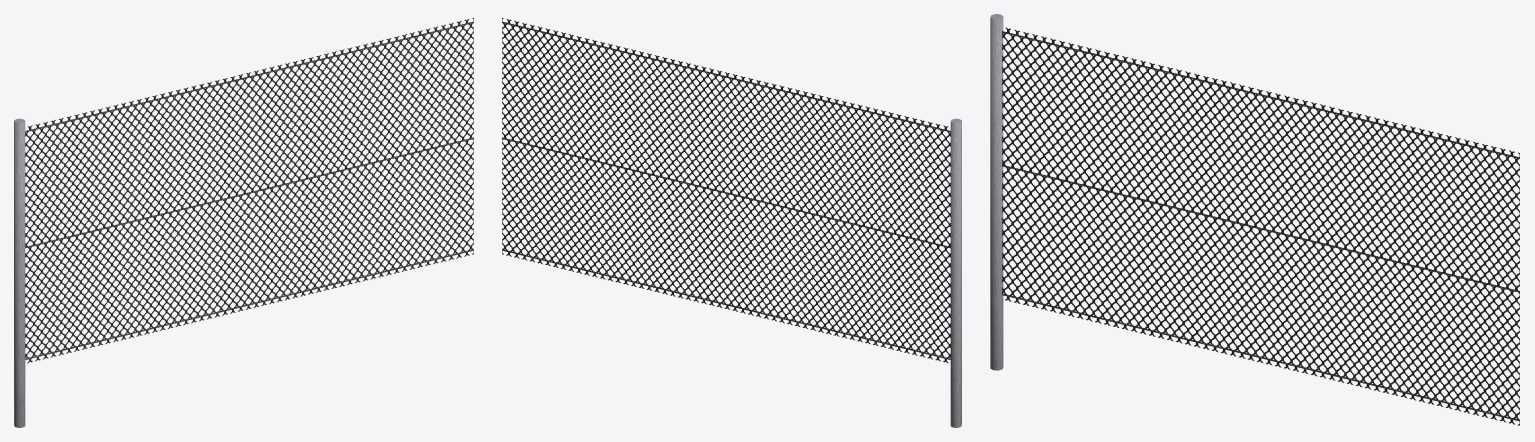
Rendered from fence-tall-chainlink-1s-cbj_LOD01.gltf.
3 renders of one model, left to right at view 1: azimuth 30°, elevation 25°; view 2: azimuth 150°, elevation 25°; view 3: azimuth 330°, elevation 25°, orthographic. The views are drawn at different scales.
Visible parts, largest first — view 1: tall-fence01; view 2: tall-fence01; view 3: tall-fence01.
Boxes of the visible parts, box(x1,y1,x2,y2) form: tall-fence01: box(14, 18, 473, 427); tall-fence01: box(502, 18, 961, 427); tall-fence01: box(990, 14, 1519, 425).
Size of the model in its own units: 3.67 by 2.33 by 0.08.
